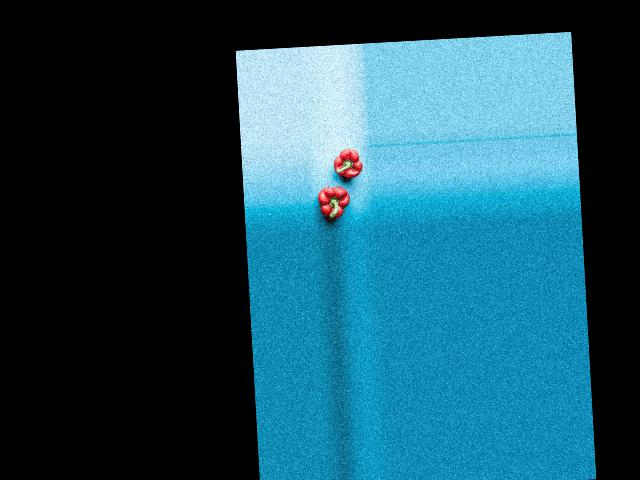bell_pepper: (317, 179, 354, 223)
